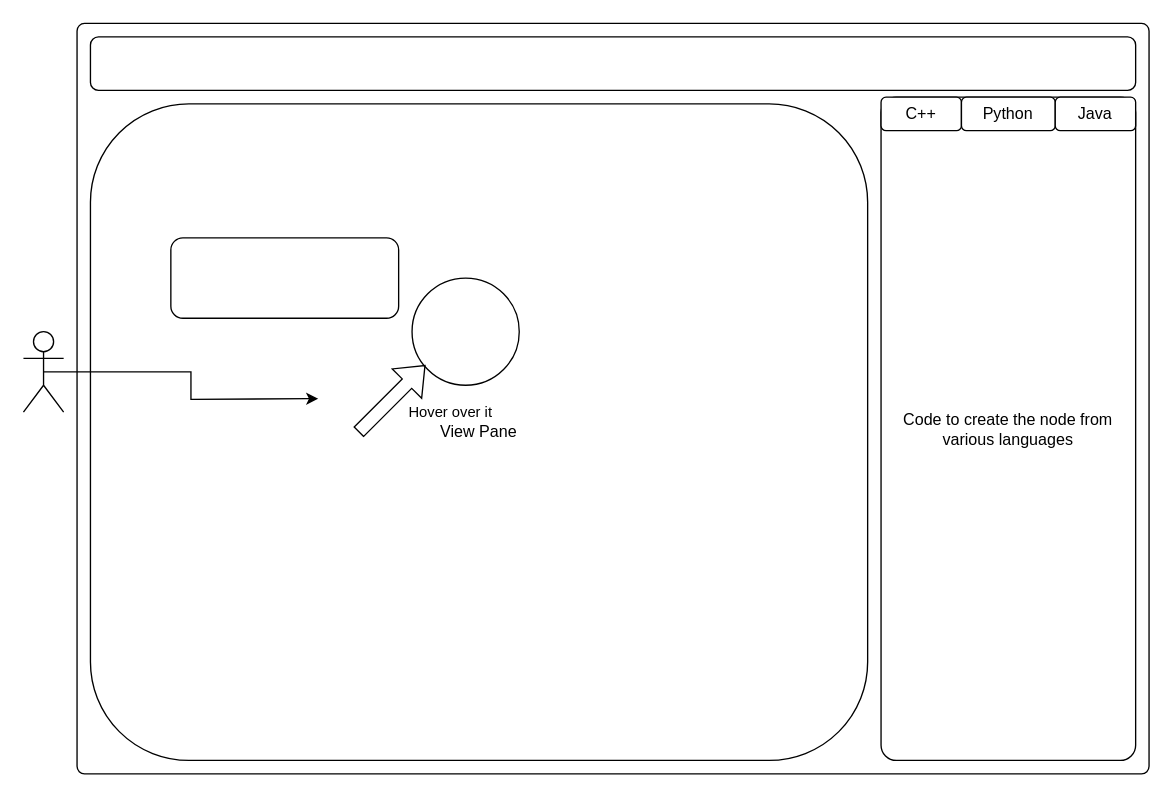
This 1173x797 diagram has some shape labels left out. Each missing label, with the centre of its shape:
"Actor" belongs at point (43, 371).
"Nav/Tool Bar" belongs at point (612, 63).
"Tooltip that comes from the database" belongs at point (284, 277).
